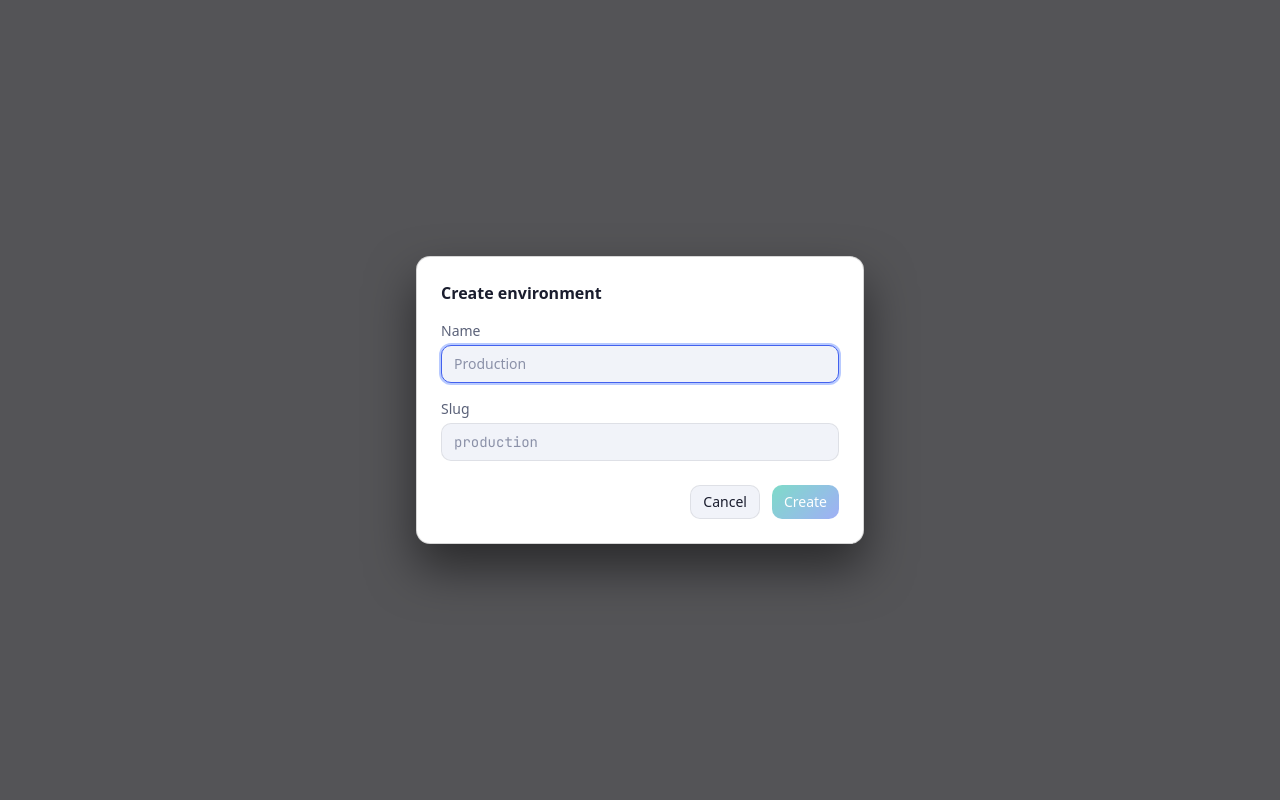
CreateEnvironmentDialog › auto-generates slug from name
This screenshot has width=1280, height=800.
Step 1. Type "My Production Env" into the field labelled "Name" → (640, 364), box [441, 345, 839, 383]
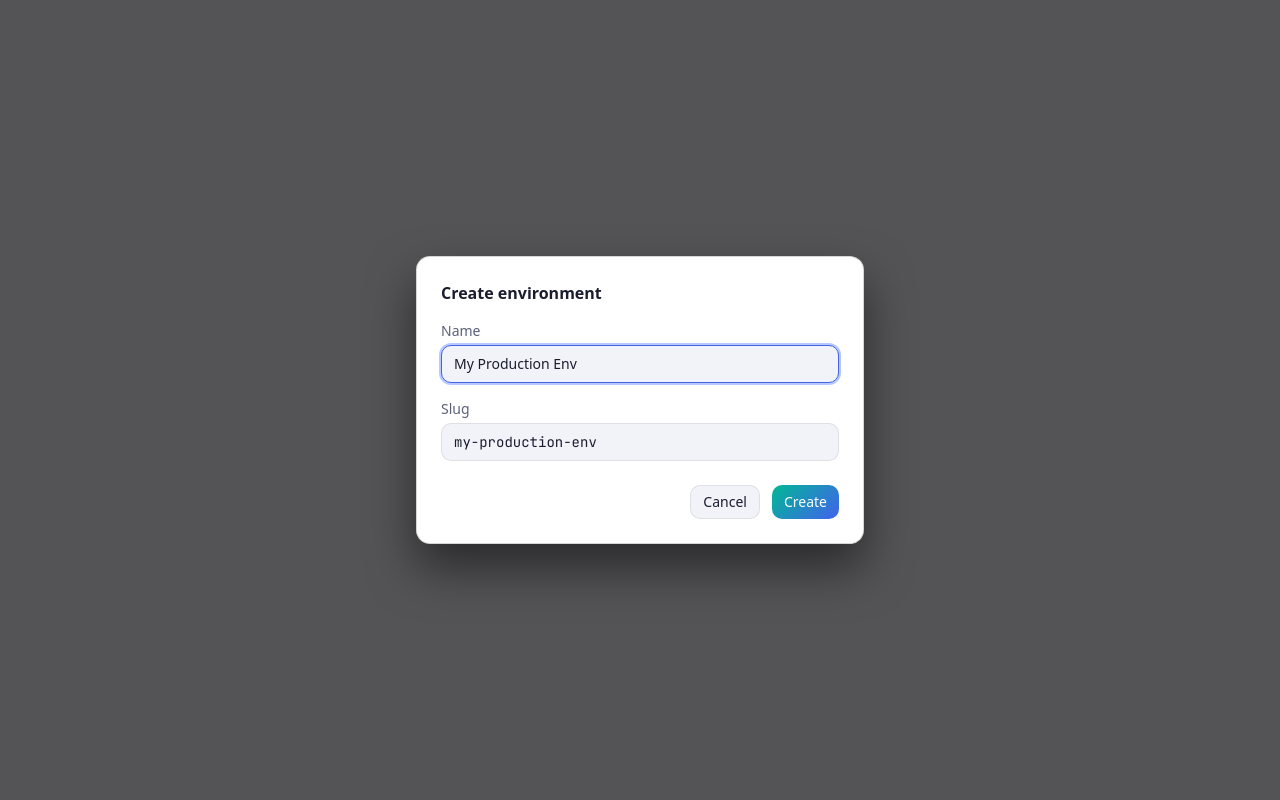
Expected: the field labelled "Slug" holds "my-production-env", [441, 423, 839, 461]
